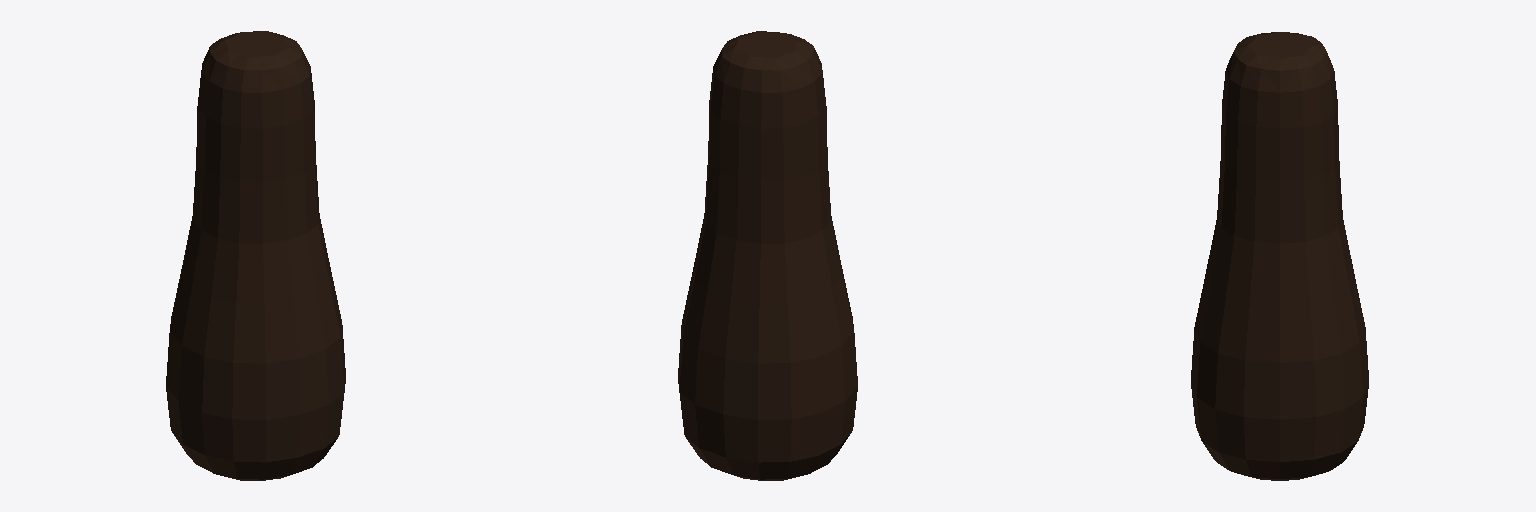
File: armUpper.obj
3 views of the same model, side by side, from view 1: azimuth 30°, elevation 25°; view 2: azimuth 150°, elevation 25°; view 3: azimuth 270°, elevation 25° (orthographic).
Bounding box in the file's own units: 3.71 × 9.68 × 3.71.